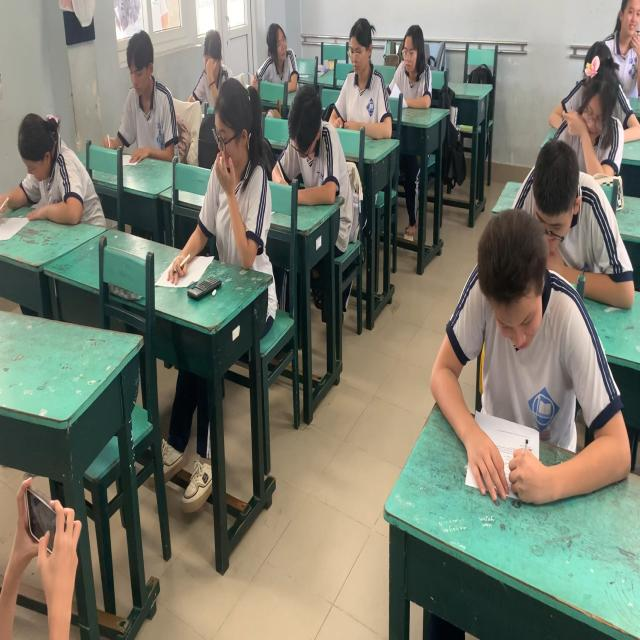cheating: (183, 63, 274, 308), (242, 0, 304, 101)
not_cheating: (418, 194, 628, 506), (513, 130, 619, 320), (0, 83, 105, 254), (263, 68, 348, 236), (94, 19, 179, 182), (550, 58, 634, 198), (321, 6, 394, 155), (376, 0, 447, 115), (578, 0, 640, 103), (178, 13, 232, 115)
